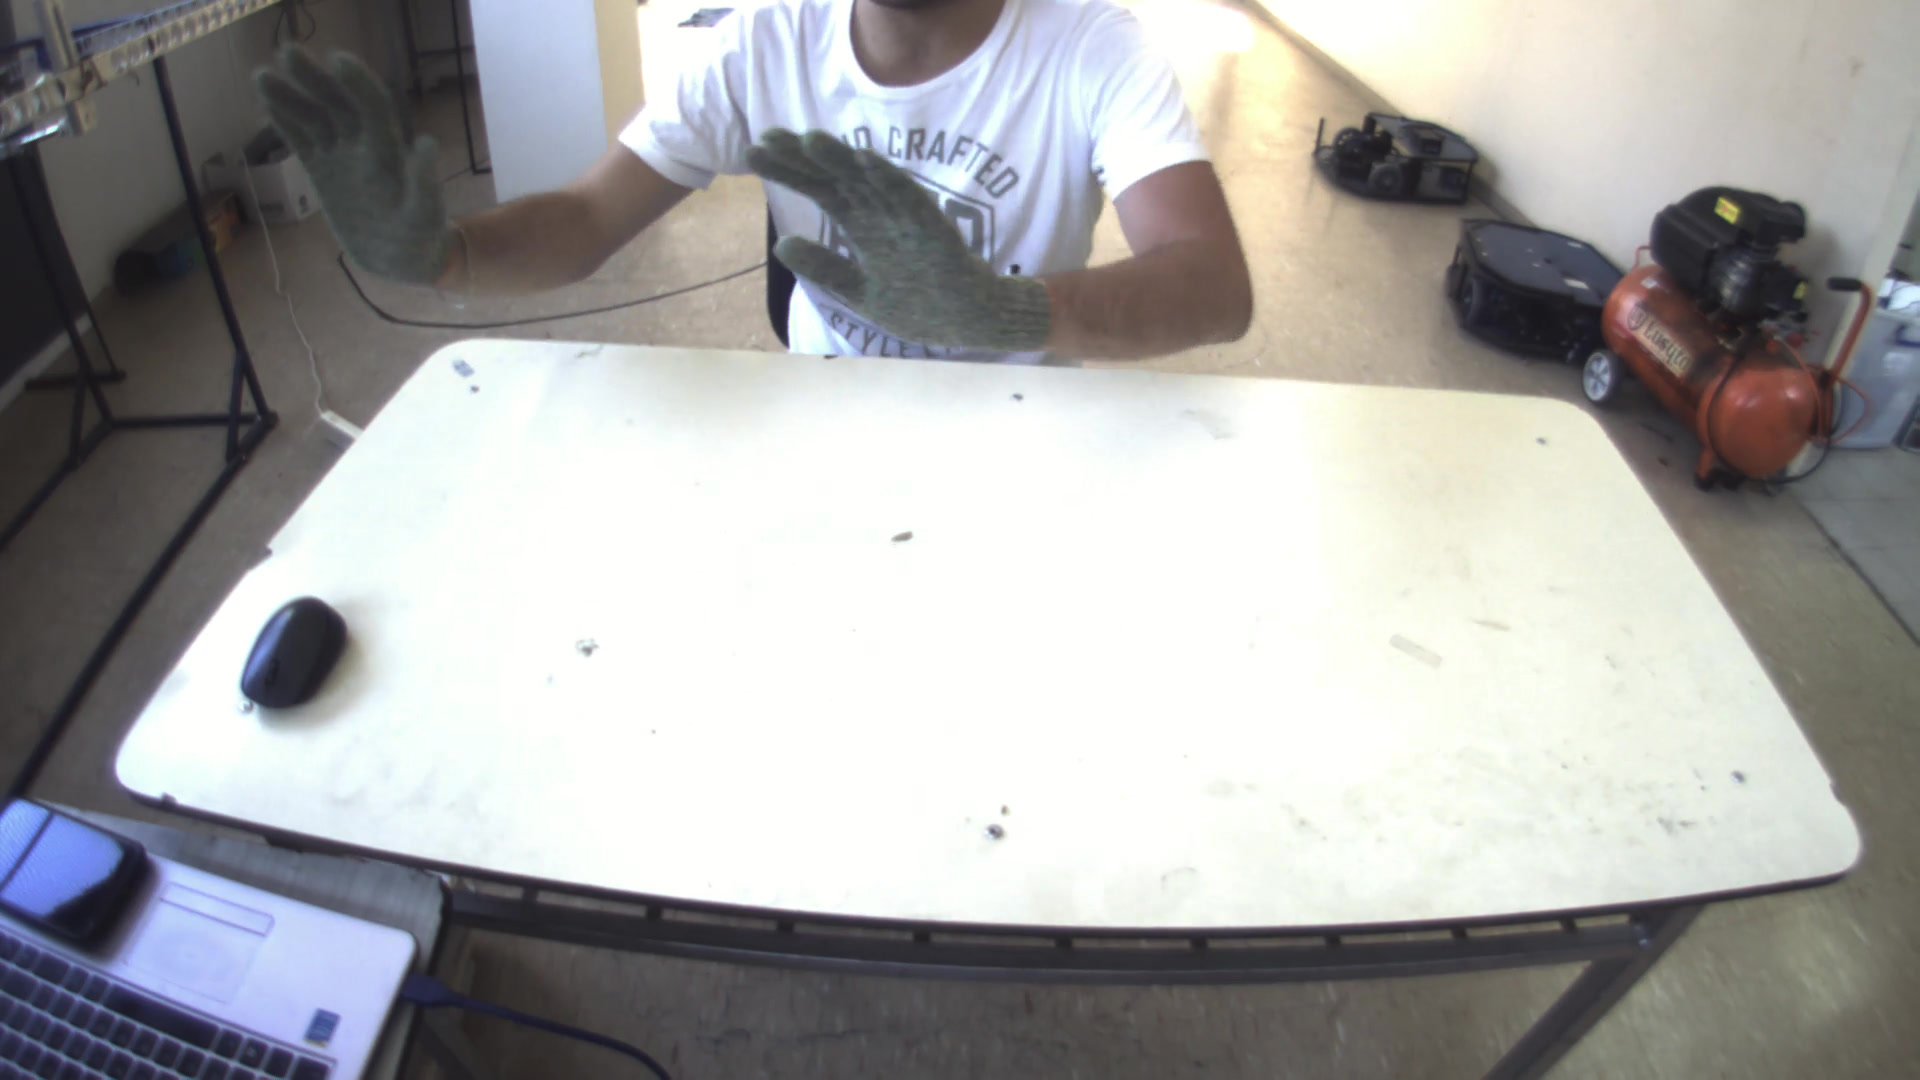hand: (753, 121, 1058, 360), (243, 44, 455, 276)
